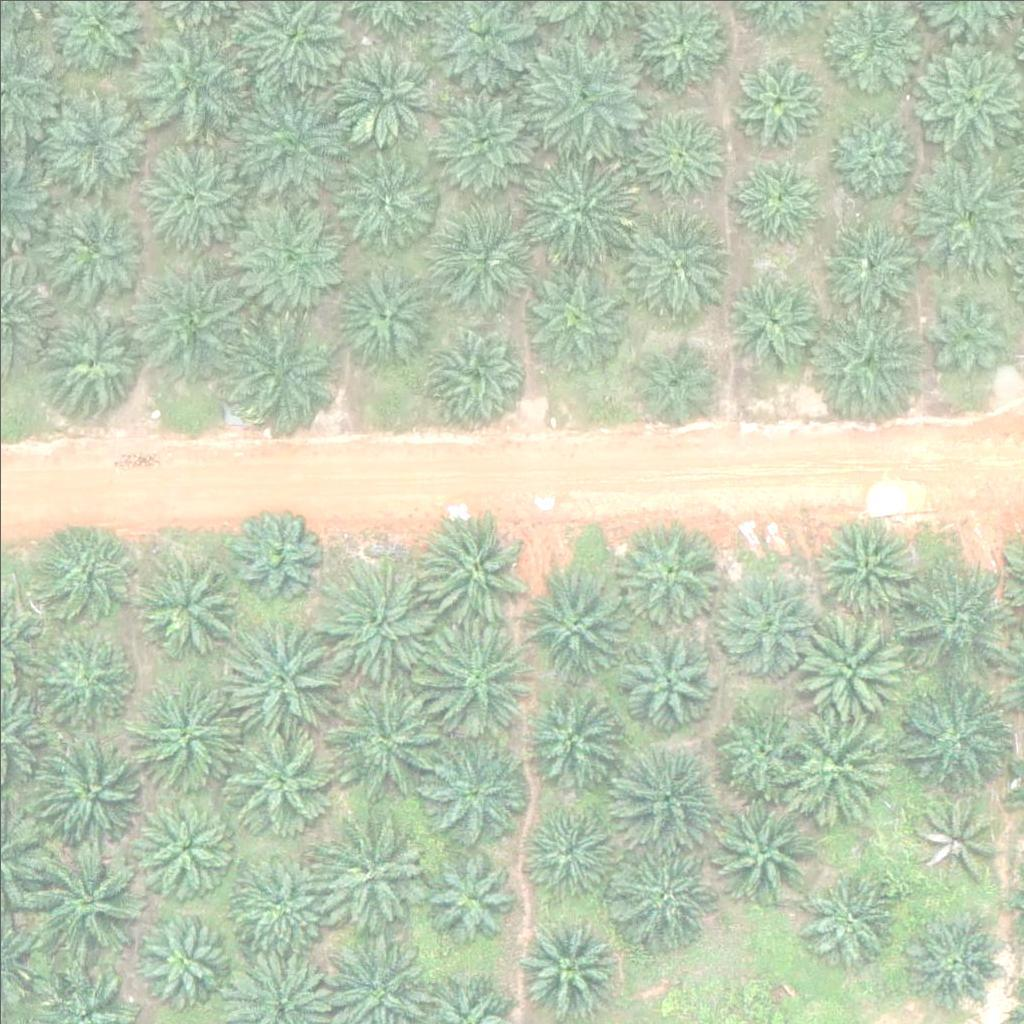Kelapa_Sawit: (910, 37, 1023, 151), (32, 735, 145, 849), (322, 558, 435, 672), (425, 618, 538, 732), (609, 517, 722, 631), (522, 565, 635, 679), (910, 153, 1023, 266), (35, 194, 148, 307), (142, 258, 255, 371), (141, 137, 254, 250), (228, 309, 341, 422), (235, 192, 348, 305), (528, 32, 641, 145), (627, 205, 740, 318), (33, 842, 146, 955), (130, 678, 243, 791), (220, 717, 333, 830), (311, 818, 424, 931), (610, 739, 723, 852), (38, 303, 150, 417), (523, 259, 635, 373), (811, 310, 923, 424), (419, 734, 531, 848), (127, 25, 239, 138), (234, 81, 346, 194), (323, 30, 435, 143), (524, 145, 636, 258), (129, 541, 241, 654), (219, 620, 331, 733), (330, 685, 442, 798), (414, 508, 526, 621), (706, 795, 818, 908), (783, 712, 895, 825), (796, 614, 908, 727), (894, 559, 1006, 672), (898, 680, 1010, 793), (42, 83, 142, 184), (332, 269, 432, 370), (333, 140, 433, 241), (431, 92, 531, 193), (725, 50, 825, 151), (821, 211, 921, 312), (33, 624, 133, 725), (36, 515, 136, 616), (136, 792, 236, 893), (419, 842, 519, 943), (617, 621, 717, 722), (716, 577, 816, 678), (802, 866, 902, 967), (438, 206, 538, 306), (427, 323, 527, 423), (729, 153, 829, 253), (722, 277, 822, 377), (228, 846, 328, 946), (516, 913, 616, 1013), (516, 797, 616, 897), (520, 681, 620, 781), (614, 837, 714, 937), (817, 515, 917, 615), (905, 912, 1005, 1012), (138, 910, 226, 999), (630, 339, 718, 427), (637, 111, 725, 199), (718, 706, 806, 794), (919, 291, 1006, 379), (824, 106, 911, 194), (236, 504, 323, 592), (909, 793, 996, 881)
